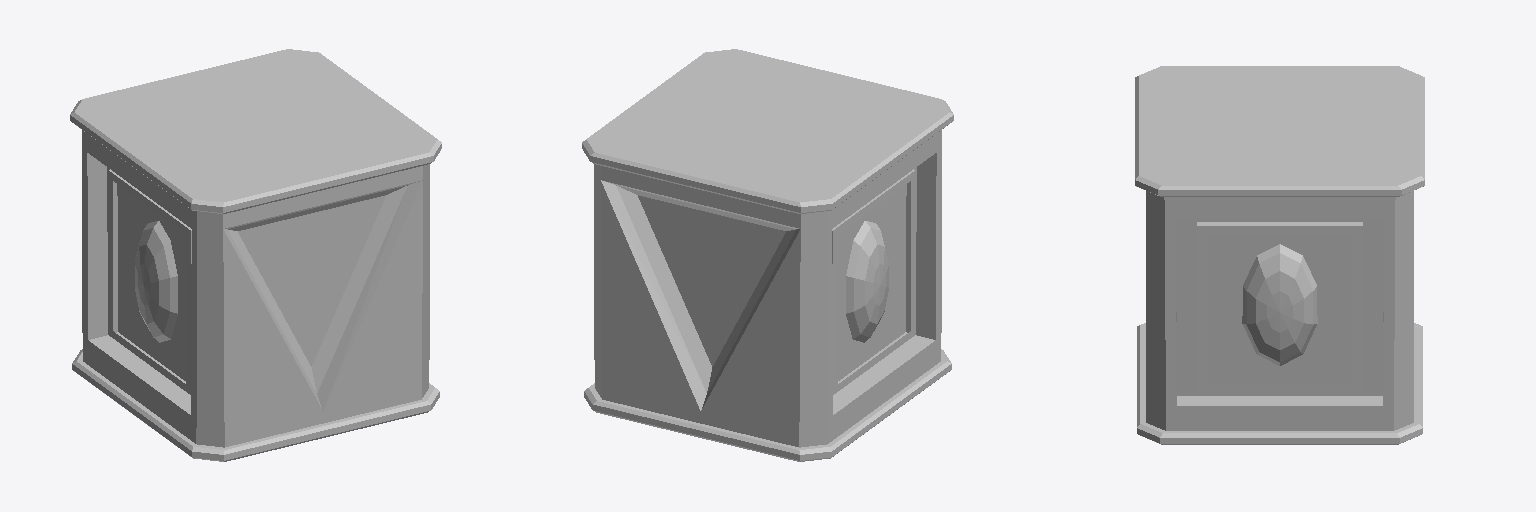
Rendered from pillar9.obj.
3 views of the same model, side by side, from view 1: azimuth 30°, elevation 25°; view 2: azimuth 150°, elevation 25°; view 3: azimuth 270°, elevation 25° (orthographic).
Visible parts, largest first — view 1: pCube11; view 2: pCube11; view 3: pCube11.
Part boxes in pixels (bbox=[...]): pCube11: bbox=[70, 49, 441, 461]; pCube11: bbox=[582, 49, 953, 461]; pCube11: bbox=[1135, 66, 1424, 444].
Size of the model in its own units: 1.05 by 1.05 by 1.05.